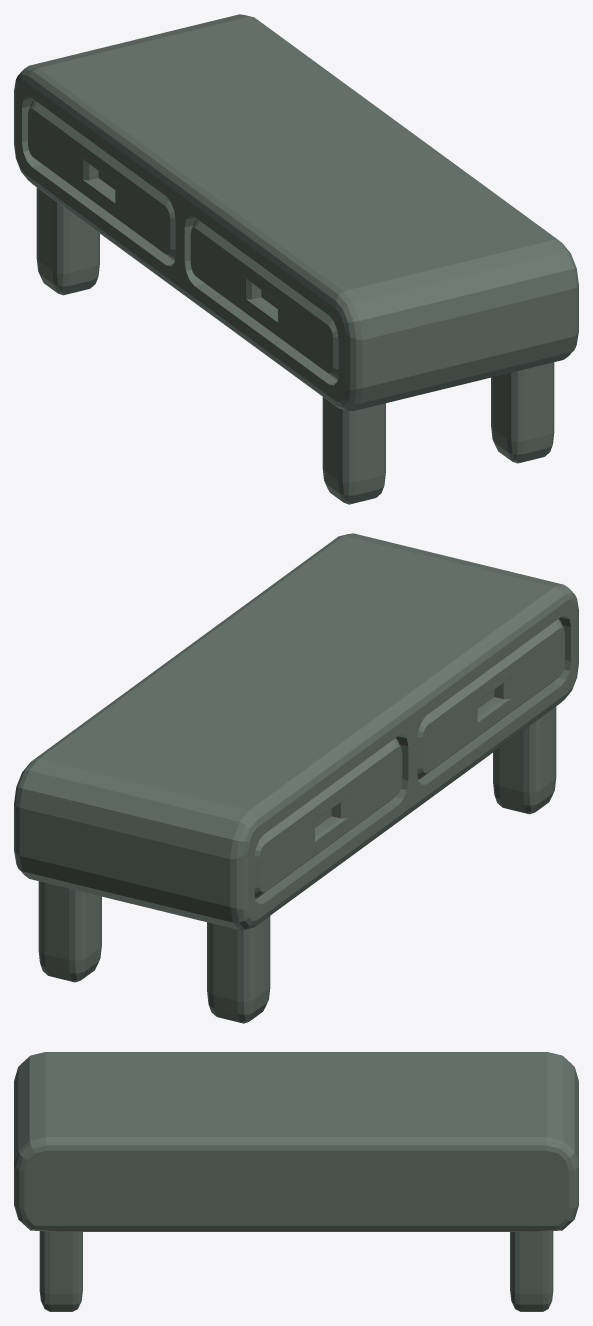
The model's file is grey-table.fbx.
The picture shows the model from 3 angles, top to bottom: view 1: azimuth 30°, elevation 25°; view 2: azimuth 150°, elevation 25°; view 3: azimuth 270°, elevation 25°; orthographic projection. The views are drawn at different scales.
Parts seen in each view (by area): view 1: grey.table, grey.table.drawer.right, grey.table.drawer.left; view 2: grey.table, grey.table.drawer.left, grey.table.drawer.right; view 3: grey.table.
Boxes of the visible parts, bbox=[...] form: grey.table: bbox=[14, 14, 578, 504]; grey.table.drawer.right: bbox=[190, 219, 338, 379]; grey.table.drawer.left: bbox=[28, 100, 175, 260]; grey.table: bbox=[14, 533, 578, 1023]; grey.table.drawer.left: bbox=[254, 738, 402, 898]; grey.table.drawer.right: bbox=[417, 619, 564, 779]; grey.table: bbox=[14, 1052, 578, 1311].
Bounding box in the file's own units: 418 × 374 × 1072.
2 materials, 2 textured.
